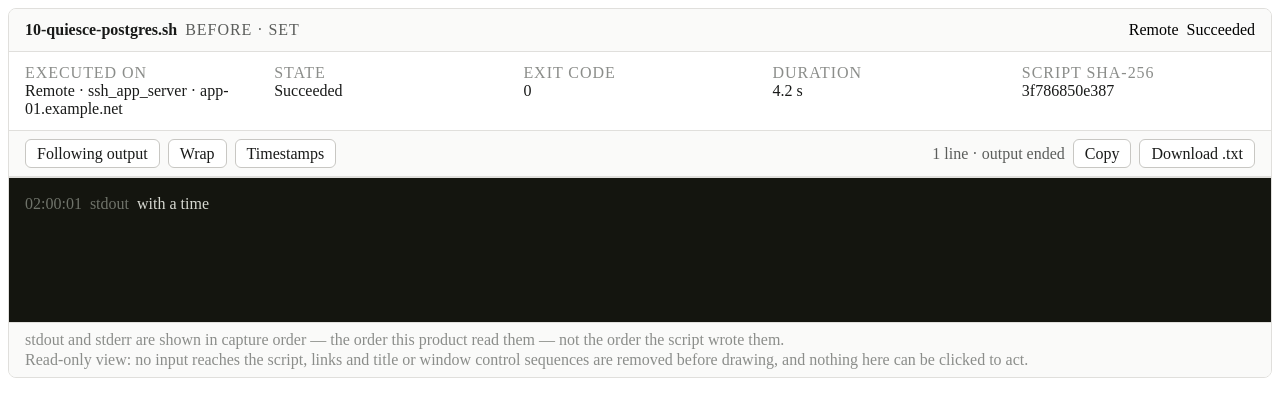
Test: the toolbar › turns timestamps off without losing the stream labels
The width and height of the screenshot is (1280, 395).
Expected: the text "with a time" is shown, [137,190,209,218]
Expected: the text "02:00:01" is shown, [25,190,82,218]
Click the button "Timestamps" at (285, 154), box [235,139,336,168]
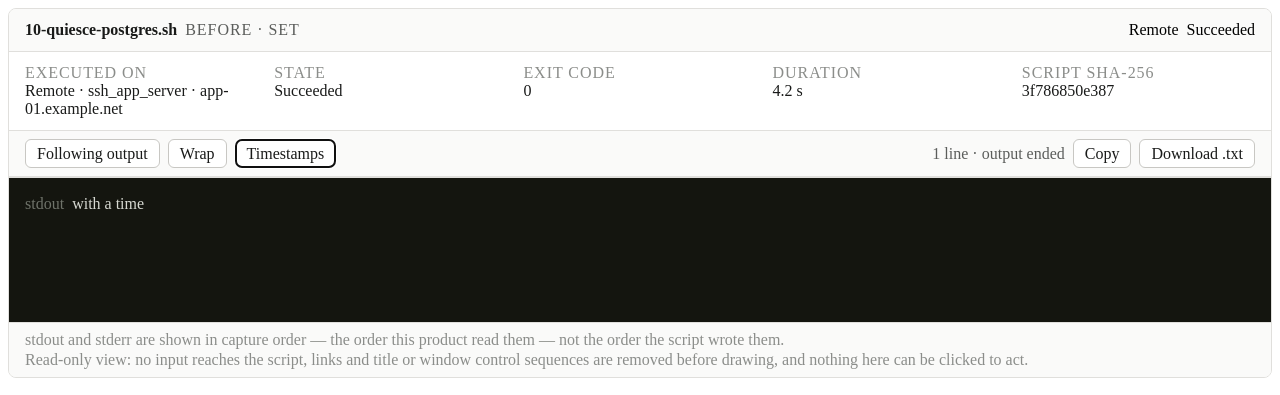
Expected: the text "stdout" is shown, [25,190,64,218]
Expected: the text "02:00:01" is gone
